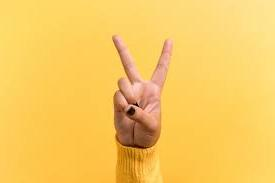Peace: (104, 34, 177, 146)
